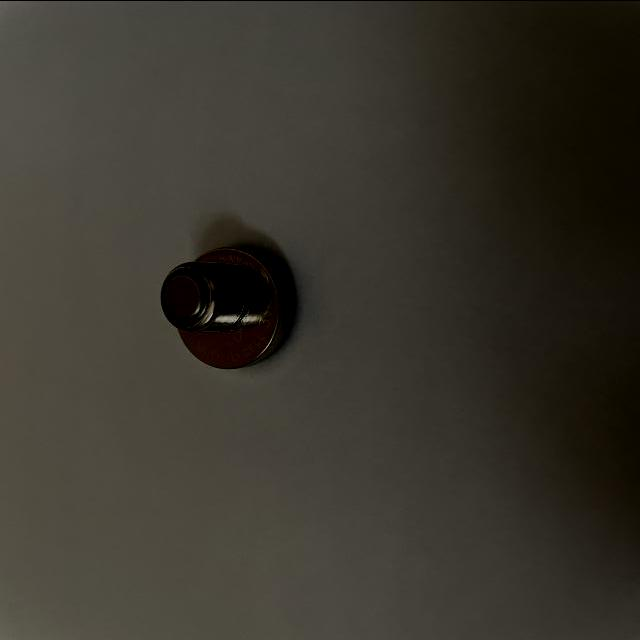COIN: (176, 245, 294, 370), (158, 257, 243, 332)
